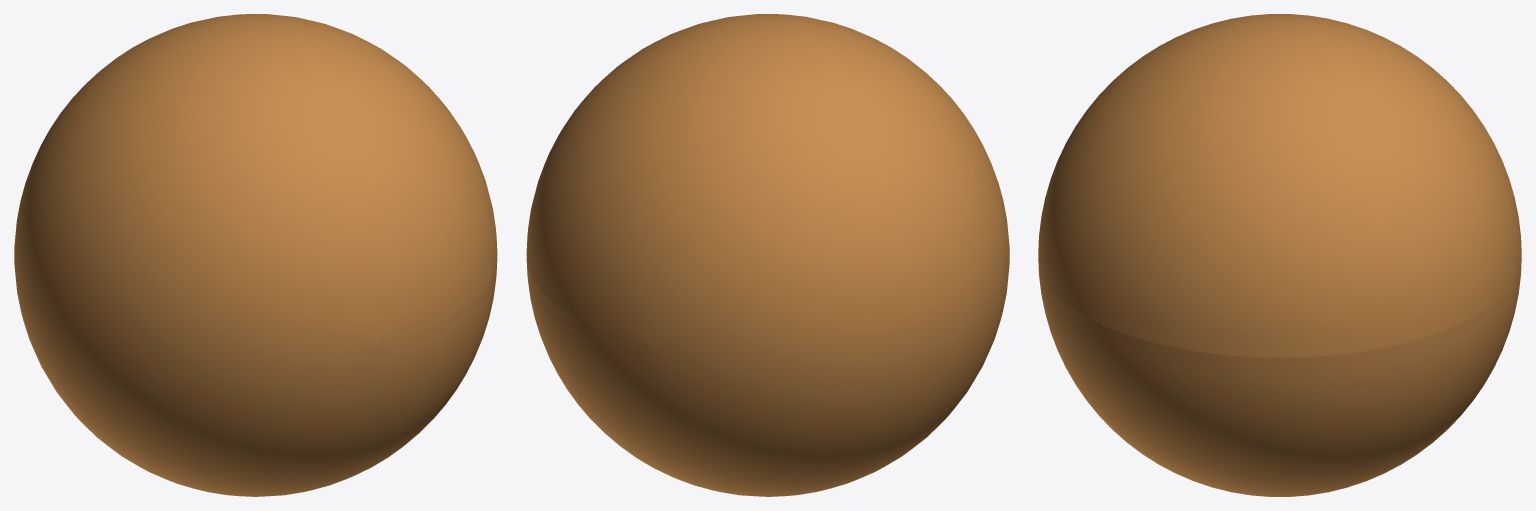
3 renders of one model, left to right at view 1: azimuth 30°, elevation 25°; view 2: azimuth 150°, elevation 25°; view 3: azimuth 270°, elevation 25°, orthographic.
Bounding box in the file's own units: 1.1 × 1.1 × 1.1.
